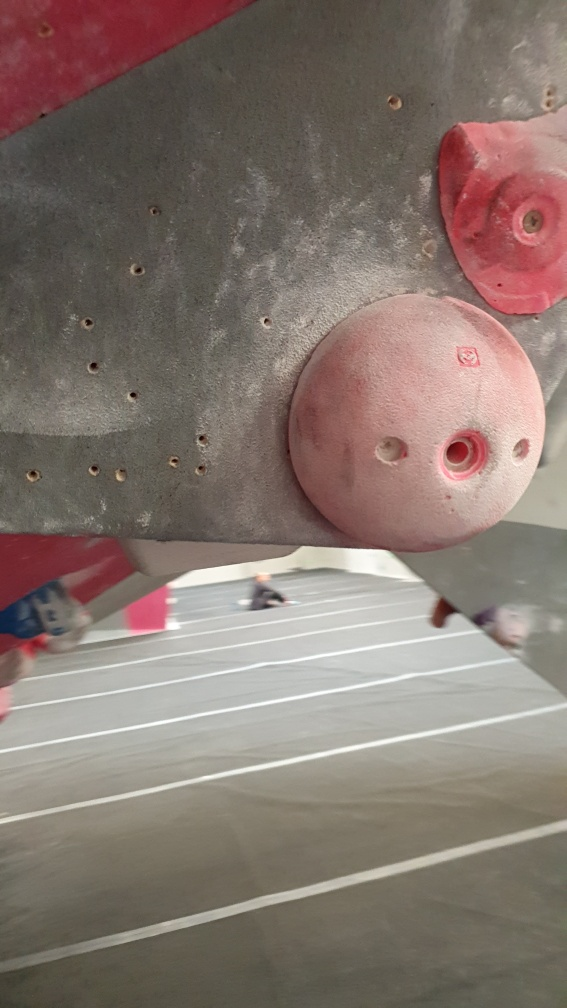Jug: (1, 579, 100, 645)
Sloper: (285, 290, 544, 555)
